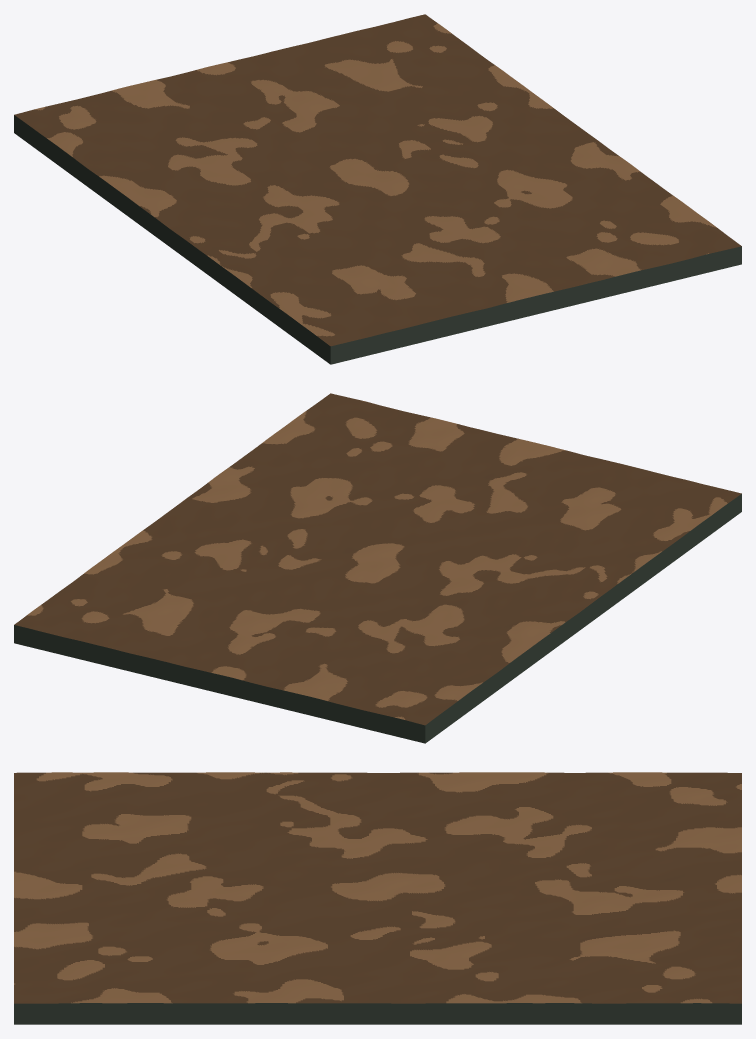
Rendered from full_uneven_low.dae.
The picture shows the model from 3 angles, top to bottom: view 1: azimuth 30°, elevation 25°; view 2: azimuth 150°, elevation 25°; view 3: azimuth 270°, elevation 25°; orthographic projection. The views are drawn at different scales.
Parts seen in each view (by area): view 1: terrain_node; view 2: terrain_node; view 3: terrain_node.
Part boxes in pixels (x1,y1,x2,y2): terrain_node: (14, 14, 741, 364); terrain_node: (14, 393, 741, 743); terrain_node: (14, 772, 741, 1024).
Bounding box in the file's own units: 6 × 8 × 0.265.
